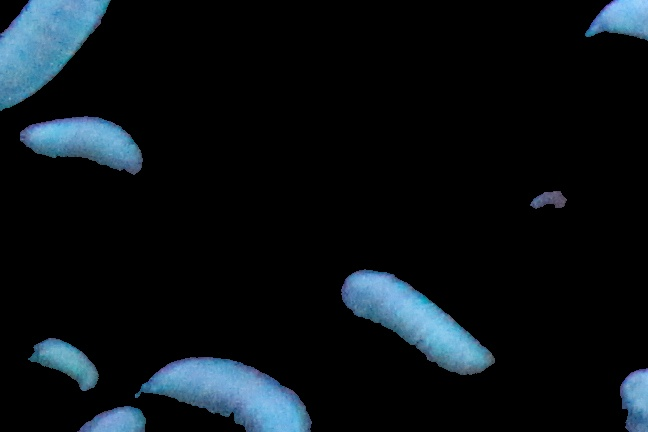larvae: (342, 257, 496, 378), (149, 353, 315, 432), (1, 1, 110, 110), (26, 124, 143, 174), (27, 338, 94, 388)
